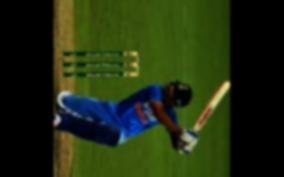batsman: (54, 50, 224, 171)
